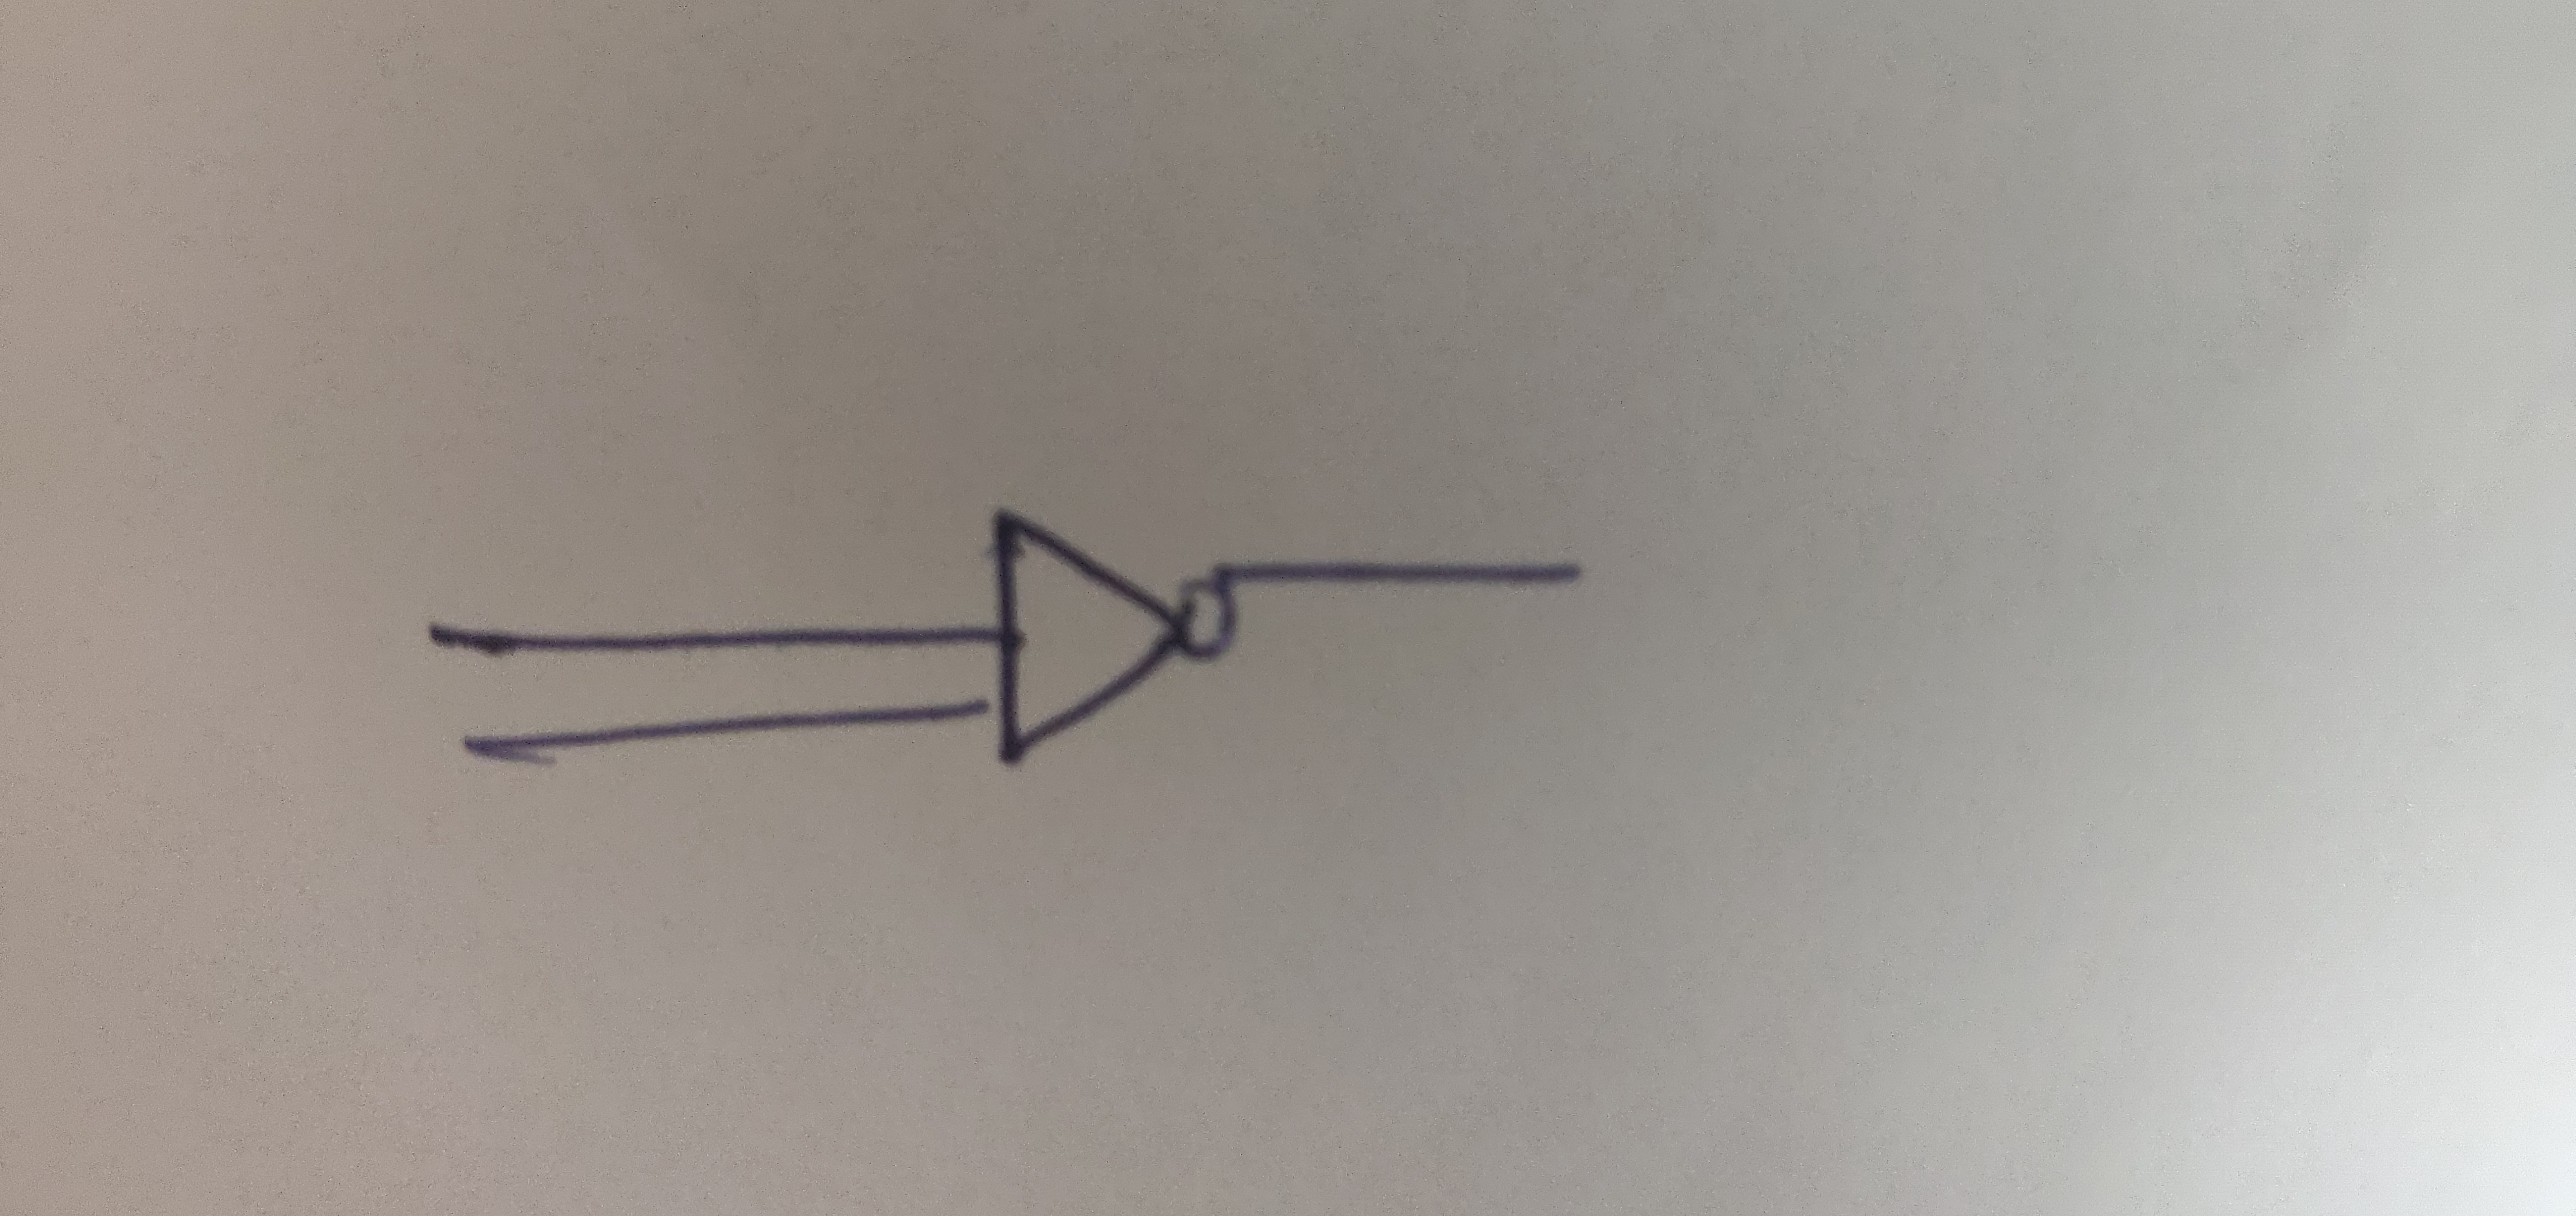not: (933, 470, 1370, 808)
